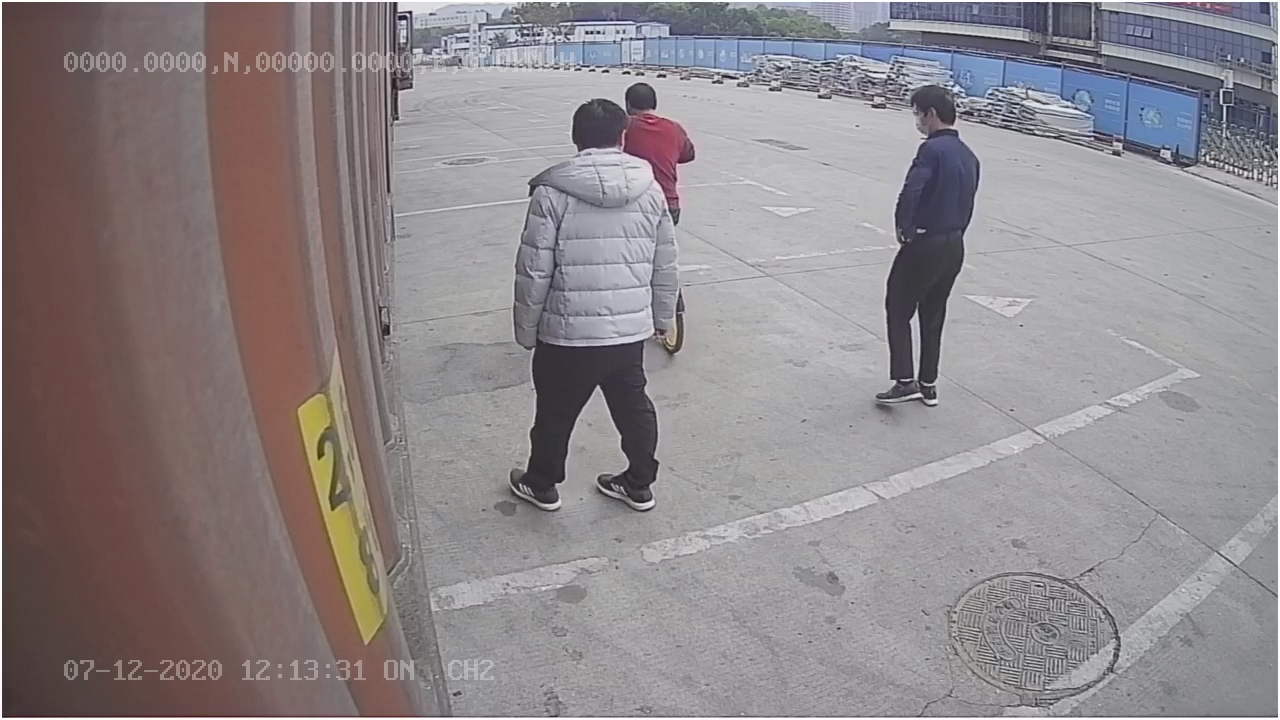person: (876, 80, 981, 410)
